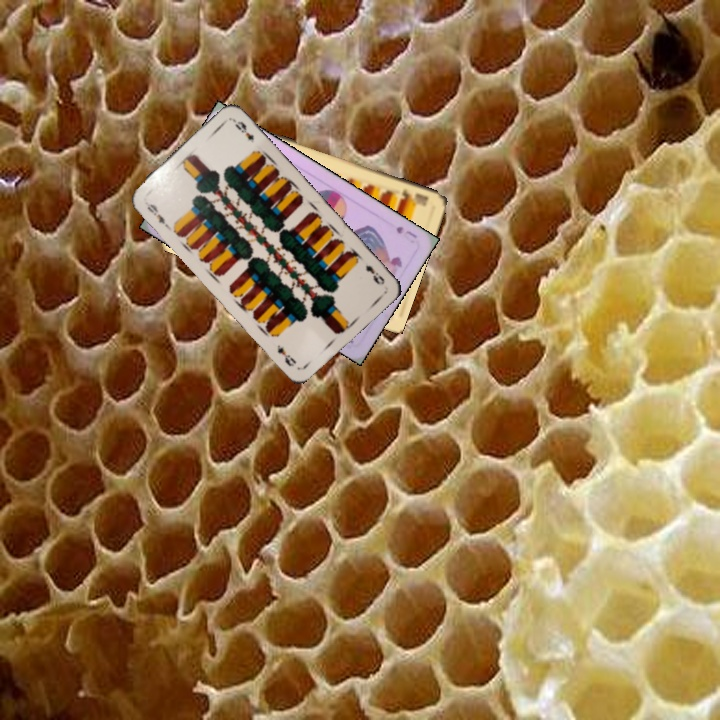E10: (397, 185, 431, 210)
E9: (140, 197, 172, 231), (361, 261, 387, 288)
SU: (392, 222, 420, 245)
